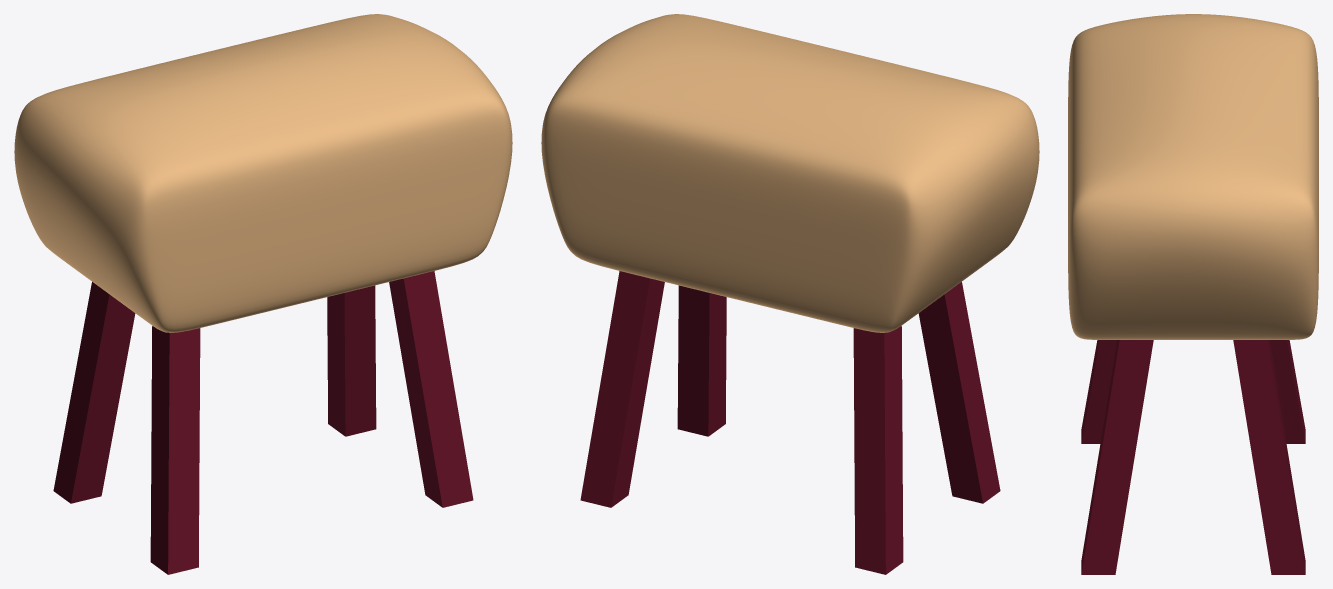
File: bok.fbx
3 renders of one model, left to right at view 1: azimuth 30°, elevation 25°; view 2: azimuth 150°, elevation 25°; view 3: azimuth 270°, elevation 25°, orthographic. The views are drawn at different scales.
Visible parts, largest first — view 1: Bok; view 2: Bok; view 3: Bok.
Boxes of the visible parts, bbox=[...] form: Bok: bbox=[14, 14, 512, 574]; Bok: bbox=[541, 14, 1039, 574]; Bok: bbox=[1068, 14, 1318, 574].
Bounding box in the file's own units: 0.54 × 0.9955 × 1.
